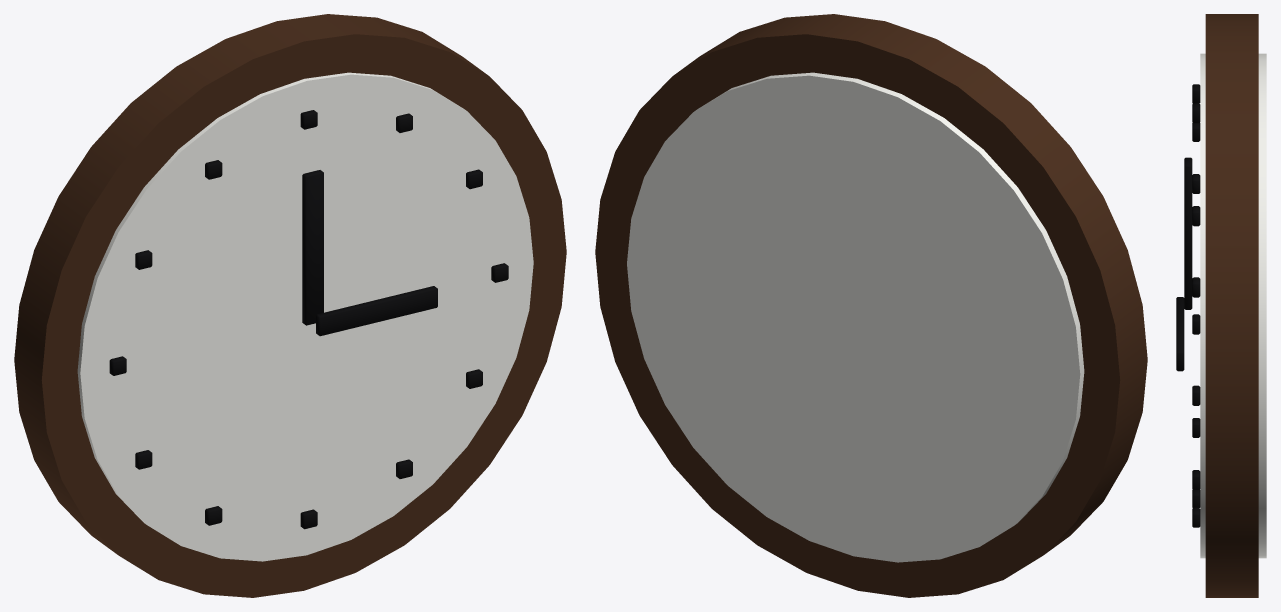
File: Clock_Wall.glb
3 renders of one model, left to right at view 1: azimuth 30°, elevation 25°; view 2: azimuth 150°, elevation 25°; view 3: azimuth 270°, elevation 25°, orthographic. The views are drawn at different scales.
Parts seen in each view (by area): view 1: Clock_Wall; view 2: Clock_Wall; view 3: Clock_Wall.
Boxes of the visible parts, left/top/right/bottom form: Clock_Wall: left=14, top=14, right=566, bottom=597; Clock_Wall: left=595, top=14, right=1147, bottom=597; Clock_Wall: left=1176, top=14, right=1266, bottom=597.
Size of the model in its own units: 0.44 by 0.44 by 0.068.
